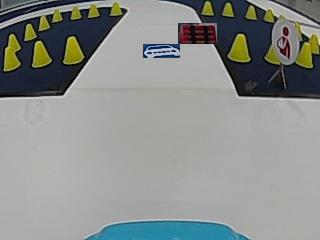cone: (228, 33, 251, 63), (62, 36, 84, 64), (2, 36, 20, 70), (31, 40, 51, 67), (296, 43, 312, 68), (24, 23, 37, 40), (109, 2, 122, 16), (201, 1, 214, 15), (39, 15, 51, 30), (87, 4, 100, 17), (245, 5, 257, 19), (222, 2, 234, 16), (52, 8, 63, 21), (70, 6, 81, 19), (263, 8, 274, 21)
patient: (274, 19, 298, 61)
